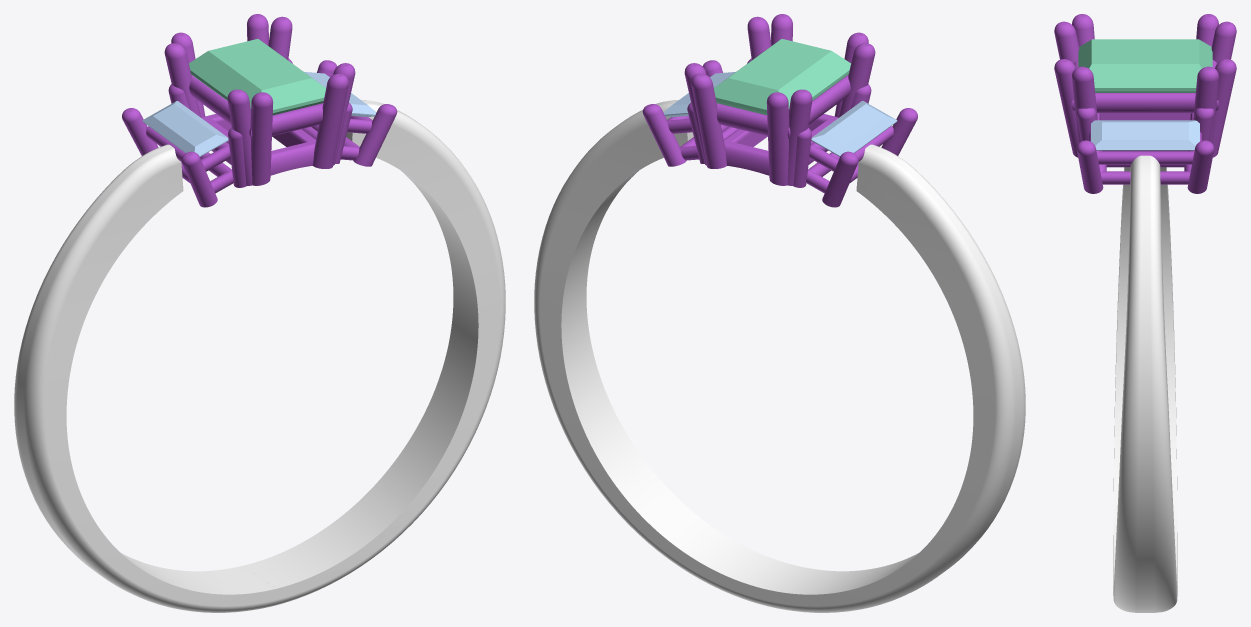
The picture shows the model from 3 angles, left to right: view 1: azimuth 30°, elevation 25°; view 2: azimuth 150°, elevation 25°; view 3: azimuth 270°, elevation 25°; orthographic projection.
Parts seen in each view (by area): view 1: Ref.66_ piedra esmer0.33ct_dos diamantes baguete_peso 2,4gr , Head Prong (×9), Diamond_Baguette Straight (×2), Head Rail (×3); view 2: Ref.66_ piedra esmer0.33ct_dos diamantes baguete_peso 2,4gr , Head Prong (×9), Diamond_Baguette Straight (×2), Head Rail (×3); view 3: Ref.66_ piedra esmer0.33ct_dos diamantes baguete_peso 2,4gr , Head Prong (×12), Diamond_Baguette Straight (×2), Head Rail (×4).
Boxes of the visible parts, <box> form: Ref.66_ piedra esmer0.33ct_dos diamantes baguete_peso 2,4gr : <box>14,100,505,612</box>; Head Prong (×9): <box>122,16,397,207</box>; Diamond_Baguette Straight (×2): <box>142,39,325,156</box>; Head Rail (×3): <box>146,75,323,175</box>; Ref.66_ piedra esmer0.33ct_dos diamantes baguete_peso 2,4gr : <box>534,100,1025,612</box>; Head Prong (×9): <box>642,16,917,207</box>; Diamond_Baguette Straight (×2): <box>714,39,897,156</box>; Head Rail (×3): <box>716,75,893,175</box>; Ref.66_ piedra esmer0.33ct_dos diamantes baguete_peso 2,4gr : <box>1113,155,1177,612</box>; Head Prong (×12): <box>1054,14,1236,193</box>; Diamond_Baguette Straight (×2): <box>1078,39,1212,150</box>; Head Rail (×4): <box>1071,60,1219,184</box>.
Bounding box in the file's own units: 2.64 × 2.88 × 0.871.
